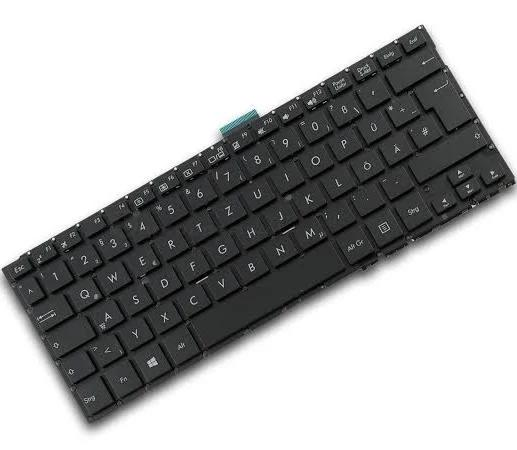0: (297, 109, 333, 142)
1: (38, 258, 73, 292)
2: (65, 242, 101, 275)
3: (92, 226, 132, 258)
4: (120, 210, 159, 239)
5: (150, 195, 188, 225)
6: (179, 174, 218, 209)
7: (211, 156, 245, 192)
8: (240, 139, 276, 176)
9: (268, 125, 304, 158)
a: (87, 297, 121, 330)
accent: (356, 70, 391, 108)
ae: (379, 131, 416, 165)
alt-left: (159, 320, 201, 364)
altgr-right: (335, 224, 373, 263)
b: (233, 249, 269, 284)
c: (174, 284, 212, 317)
caret: (14, 275, 47, 307)
comma: (323, 200, 355, 231)
d: (141, 264, 183, 299)
del: (385, 45, 443, 93)
e: (121, 242, 161, 277)
enter: (415, 71, 476, 130)
f: (174, 247, 210, 282)
g: (201, 231, 240, 265)
h: (231, 214, 270, 249)
hash: (406, 115, 443, 149)
i: (267, 160, 305, 192)
j: (258, 197, 297, 232)
k: (291, 180, 326, 216)
keyboard: (1, 21, 516, 427)
l: (321, 163, 356, 198)
less: (88, 333, 124, 366)
m: (292, 215, 328, 248)
minus: (377, 166, 413, 200)
n: (263, 233, 299, 266)
o: (296, 144, 334, 177)
oe: (350, 148, 385, 182)
p: (328, 127, 362, 160)
plus: (385, 93, 421, 127)
point: (350, 183, 386, 216)
q: (65, 277, 102, 310)
r: (150, 228, 189, 259)
s: (118, 282, 153, 314)
shift-left: (60, 350, 96, 383)
shift-lock: (45, 313, 96, 359)
shift-right: (408, 122, 488, 183)
space: (191, 239, 347, 348)
ss: (326, 91, 363, 126)
strg-left: (74, 377, 115, 417)
strg-right: (394, 189, 432, 228)
t: (180, 211, 216, 243)
tab: (29, 292, 75, 333)
u: (237, 178, 276, 210)
ue: (357, 111, 392, 143)
v: (199, 269, 240, 299)
w: (92, 261, 132, 292)
x: (146, 301, 181, 333)
y: (113, 317, 154, 349)
z: (208, 196, 246, 226)
